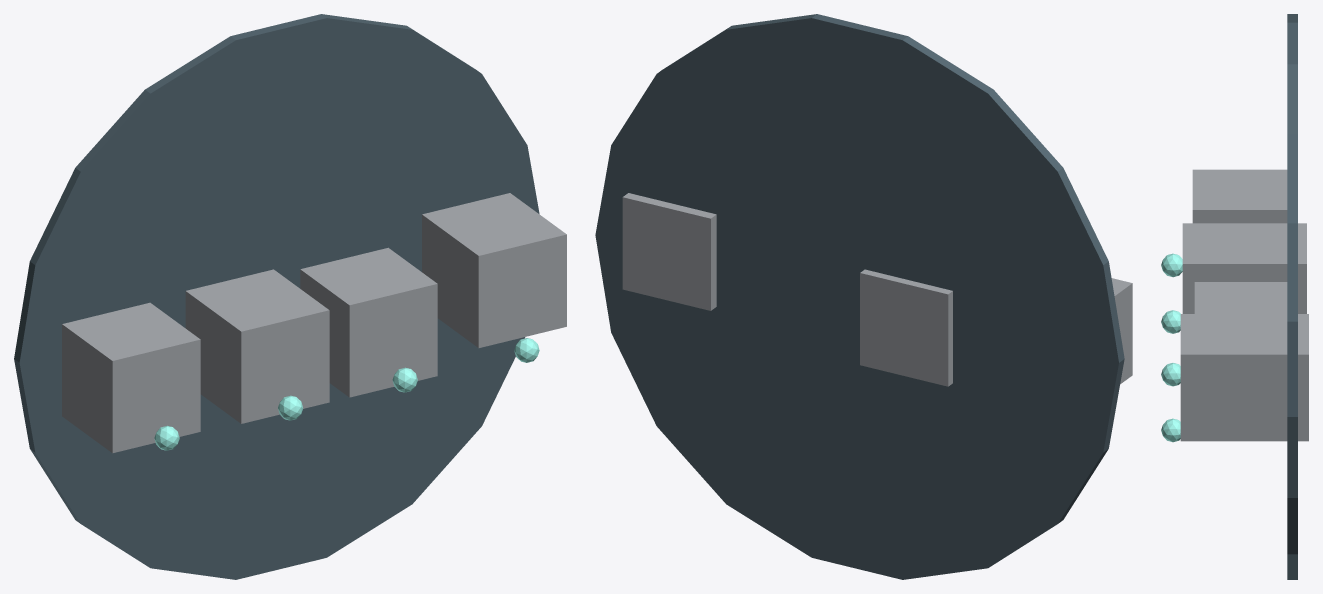
Rendered from 03_ambient_object_cluster.glb.
The picture shows the model from 3 angles, left to right: view 1: azimuth 30°, elevation 25°; view 2: azimuth 150°, elevation 25°; view 3: azimuth 270°, elevation 25°; orthographic projection. The views are drawn at different scales.
Parts seen in each view (by area): view 1: scatter_base, tech_crate_3, tech_crate_1, tech_crate_0, tech_crate_2; view 2: scatter_base, tech_crate_3, tech_crate_1, tech_crate_0; view 3: tech_crate_3, tech_crate_1, scatter_base, tech_crate_0, tech_crate_2, status_light_0, status_light_1, status_light_3, status_light_2.
Boxes of the visible parts, bbox=[...] form: scatter_base: bbox=[14, 14, 539, 579]; tech_crate_3: bbox=[422, 193, 566, 347]; tech_crate_1: bbox=[185, 269, 329, 423]; tech_crate_0: bbox=[62, 302, 200, 453]; tech_crate_2: bbox=[300, 247, 437, 397]; scatter_base: bbox=[595, 14, 1124, 579]; tech_crate_3: bbox=[622, 193, 716, 310]; tech_crate_1: bbox=[860, 269, 952, 386]; tech_crate_0: bbox=[1111, 278, 1132, 384]; tech_crate_3: bbox=[1180, 314, 1308, 441]; tech_crate_1: bbox=[1182, 223, 1306, 313]; scatter_base: bbox=[1287, 14, 1297, 579]; tech_crate_0: bbox=[1192, 169, 1287, 223]; tech_crate_2: bbox=[1194, 282, 1287, 313]; status_light_0: bbox=[1161, 253, 1182, 277]; status_light_1: bbox=[1161, 310, 1180, 333]; status_light_3: bbox=[1161, 418, 1180, 442]; status_light_2: bbox=[1161, 363, 1180, 386].
Size of the model in its own units: 1.9 by 1.87 by 0.4943.
